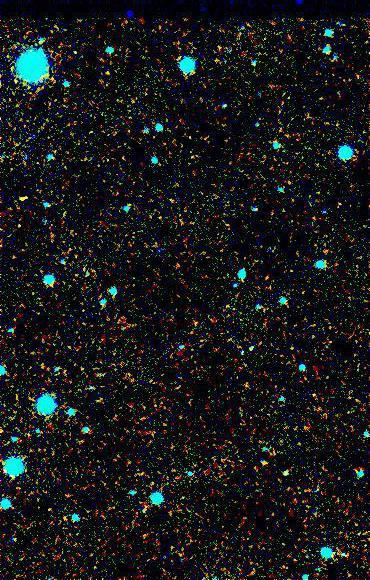star: (7, 181, 37, 211)
